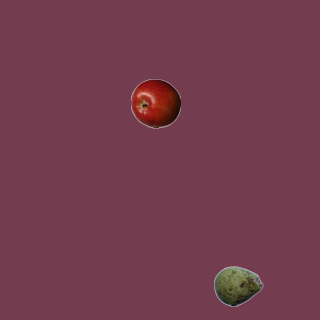Apple Braeburn: (130, 78, 180, 128)
Pear Stone: (213, 261, 263, 311)
